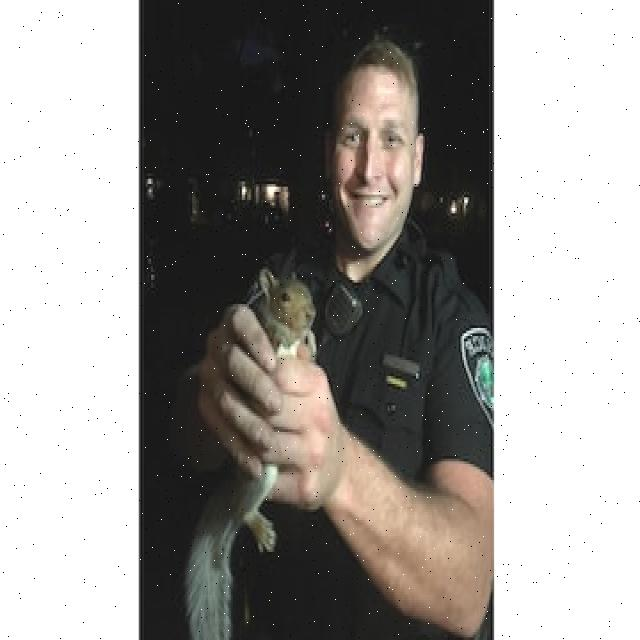police: (283, 2, 498, 640)
